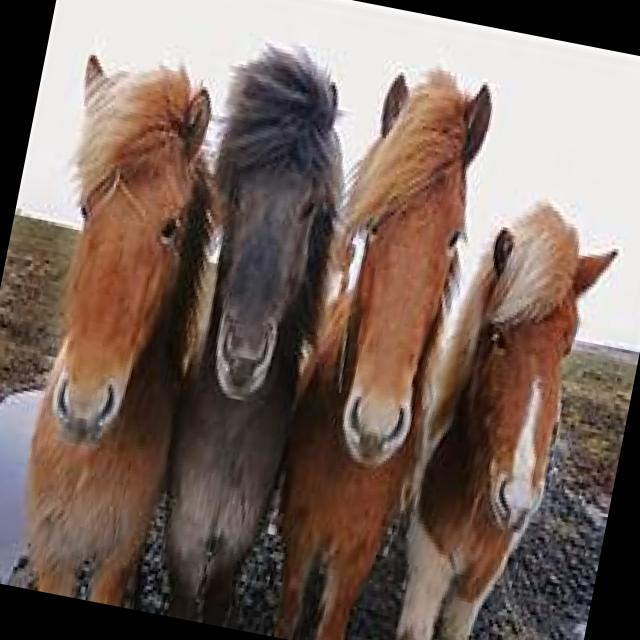horse: (123, 31, 368, 634), (259, 55, 501, 640), (0, 47, 241, 610), (382, 186, 620, 640)
